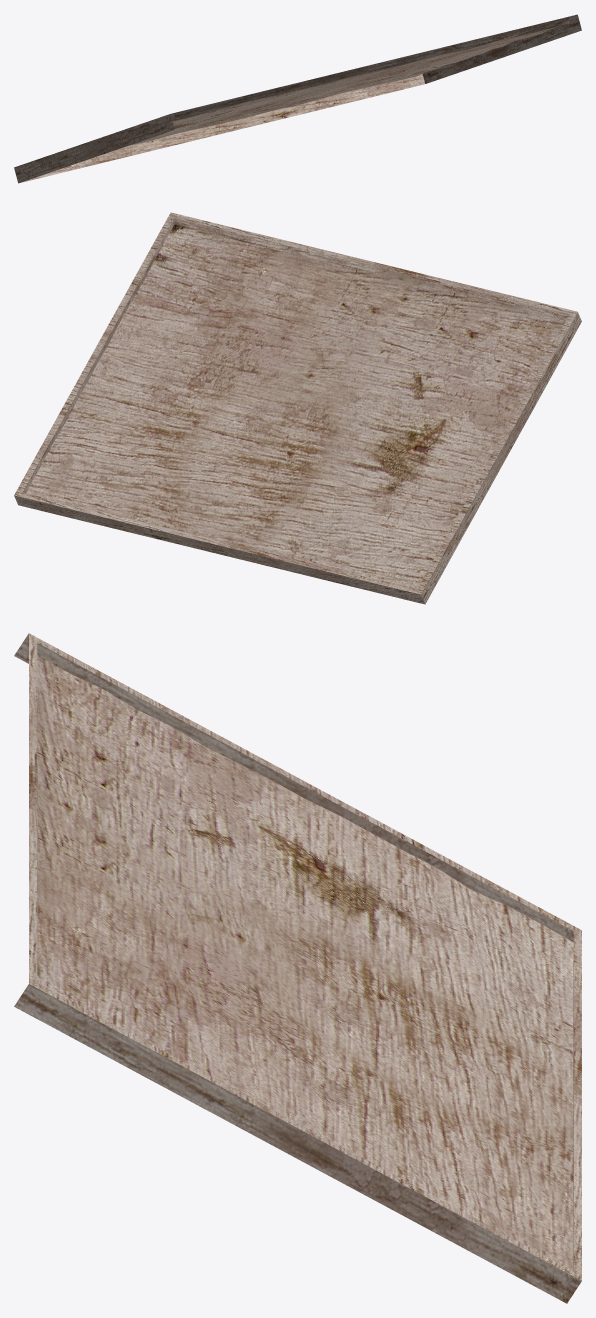
File: BancoArena.fbx
3 views of the same model, one above another, from view 1: azimuth 30°, elevation 25°; view 2: azimuth 150°, elevation 25°; view 3: azimuth 270°, elevation 25° (orthographic). The views are drawn at different scales.
Visible parts, largest first — view 1: BancoArena; view 2: BancoArena; view 3: BancoArena.
Boxes of the visible parts, box(x1,y1,x2,y2) form: BancoArena: box(14, 14, 581, 183); BancoArena: box(14, 212, 581, 604); BancoArena: box(14, 633, 581, 1303).
Bounding box in the file's own units: 171 × 72.73 × 117.
1 material, 1 textured.
